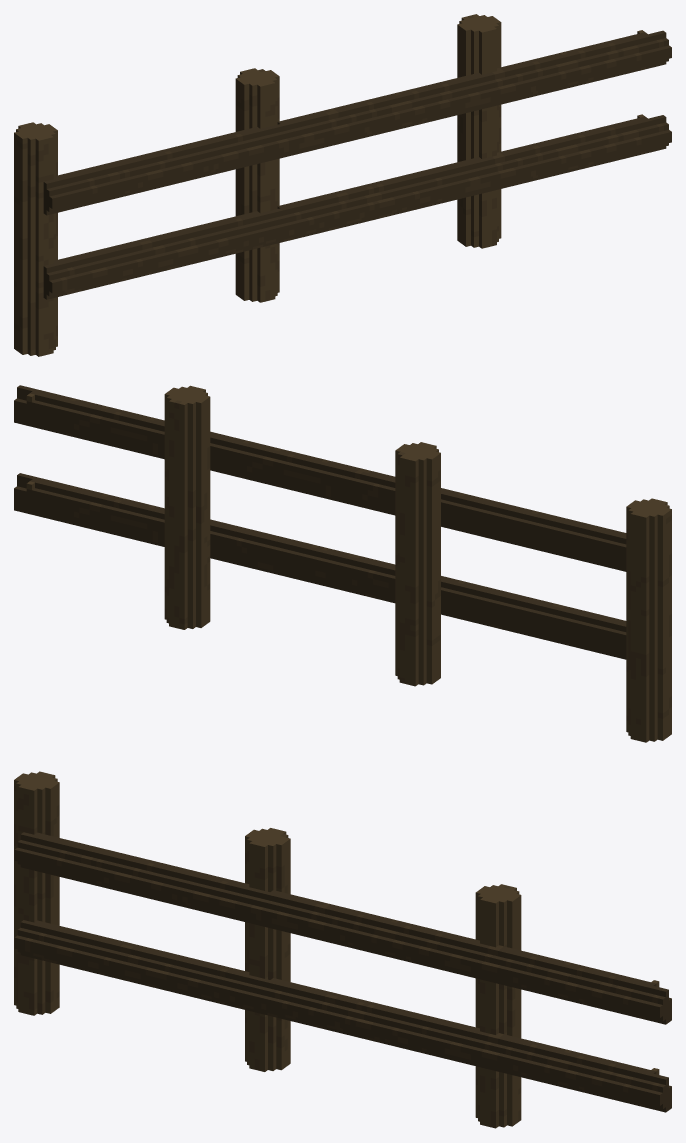
Rendered from Fence1_2.obj.
3 renders of one model, top to bottom at view 1: azimuth 30°, elevation 25°; view 2: azimuth 150°, elevation 25°; view 3: azimuth 330°, elevation 25°, orthographic. The views are drawn at different scales.
Bounding box in the file's own units: 12.6 × 4.1 × 1.
1 material, 1 textured.
